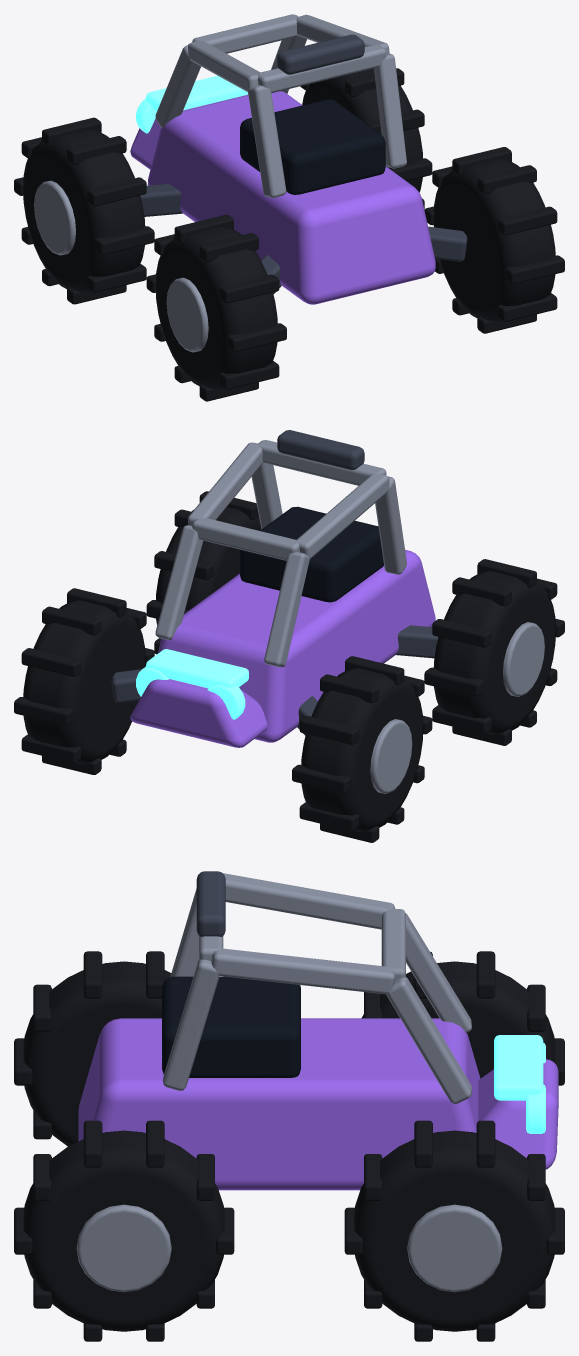
Rendered from robot-3.glb.
3 renders of one model, top to bottom at view 1: azimuth 30°, elevation 25°; view 2: azimuth 150°, elevation 25°; view 3: azimuth 270°, elevation 25°, orthographic. The views are drawn at different scales.
Parts seen in each view (by area): view 1: spine, wheel.002, wheel.001, wheel, seat, wheel.003, hoop_up, hoop_up.001, hubcap.001, hubcap, hoop_top, rollbar_pad (+30 smaller); view 2: spine, wheel.003, wheel, wheel.001, seat, prow, wheel.002, hoop_fwd, hoop_dn, hoop_dn.001, nosebar, hubcap.001 (+29 smaller); view 3: spine, wheel.002, wheel.003, wheel, seat, hubcap.002, hubcap.003, wheel.001, hoop_fwd.001, hoop_fwd, prow, hoop_dn.001 (+25 smaller).
Part boxes in pixels (left/top/right/bottom): spine: left=147, top=91, right=435, bottom=304; wheel.002: left=433, top=159, right=555, bottom=322; wheel.001: left=23, top=129, right=145, bottom=293; wheel: left=155, top=226, right=277, bottom=390; seat: left=240, top=99, right=385, bottom=194; wheel.003: left=302, top=68, right=423, bottom=192; hoop_up: left=247, top=85, right=286, bottom=197; hoop_up.001: left=374, top=53, right=406, bottom=168; hubcap.001: left=34, top=180, right=75, bottom=255; hubcap: left=166, top=277, right=208, bottom=352; hoop_top: left=257, top=44, right=386, bottom=93; rollbar_pad: left=277, top=34, right=364, bottom=74; spine: left=158, top=549, right=435, bottom=742; wheel.003: left=23, top=600, right=145, bottom=764; wheel: left=433, top=571, right=555, bottom=734; wheel.001: left=301, top=668, right=423, bottom=831; seat: left=240, top=506, right=383, bottom=602; prow: left=130, top=679, right=267, bottom=747; wheel.002: left=156, top=507, right=261, bottom=624; hoop_fwd: left=296, top=473, right=389, bottom=558; hoop_dn: left=264, top=552, right=309, bottom=667; hoop_dn.001: left=155, top=525, right=203, bottom=640; nosebar: left=146, top=649, right=248, bottom=688; hubcap.001: left=370, top=719, right=412, bottom=793; spine: left=78, top=1018, right=480, bottom=1190; wheel.002: left=23, top=1130, right=224, bottom=1331; wheel.003: left=354, top=1130, right=555, bottom=1331; wheel: left=23, top=961, right=171, bottom=1146; seat: left=162, top=976, right=300, bottom=1077; hubcap.002: left=76, top=1204, right=171, bottom=1292; hubcap.003: left=407, top=1204, right=502, bottom=1292; wheel.001: left=361, top=961, right=555, bottom=1078; hoop_fwd.001: left=211, top=948, right=395, bottom=994; hoop_fwd: left=222, top=873, right=395, bottom=929; prow: left=478, top=1059, right=558, bottom=1169; hoop_dn.001: left=386, top=977, right=471, bottom=1103.
Bounding box in the file's own units: 0.852 × 0.664 × 0.95.
